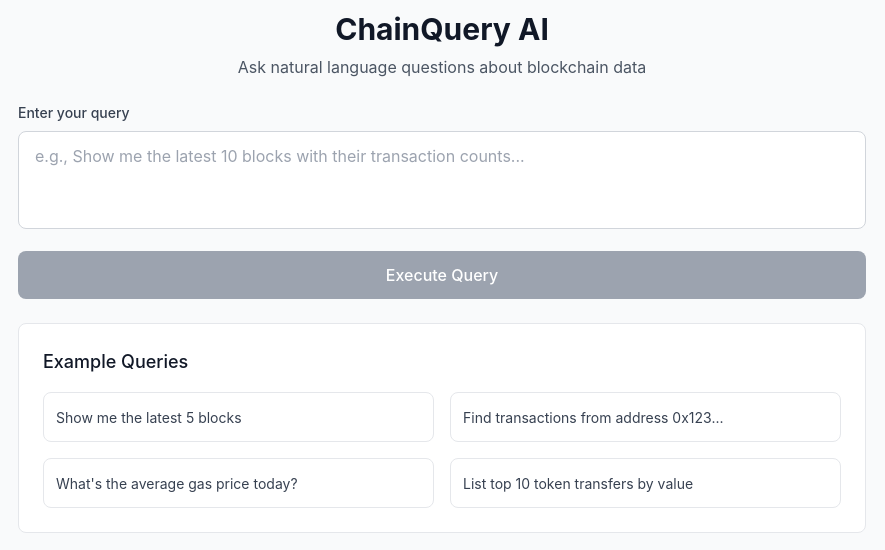
Test: QueryInterface › handles API errors gracefully
Step 1. Type "test query" into the text box labelled "Enter your query" → (442, 180), box [18,131,866,229]
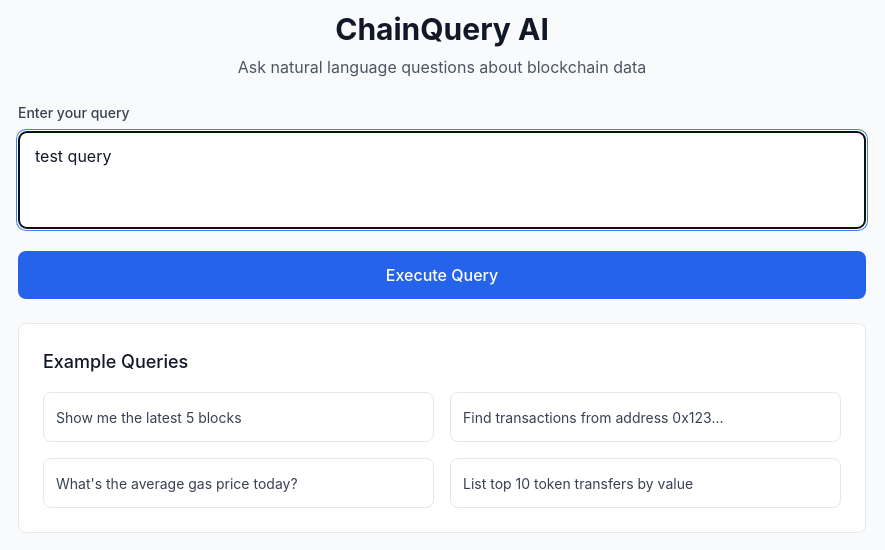
Step 2. Click the button "Execute Query" → (442, 275), box [18,251,866,299]
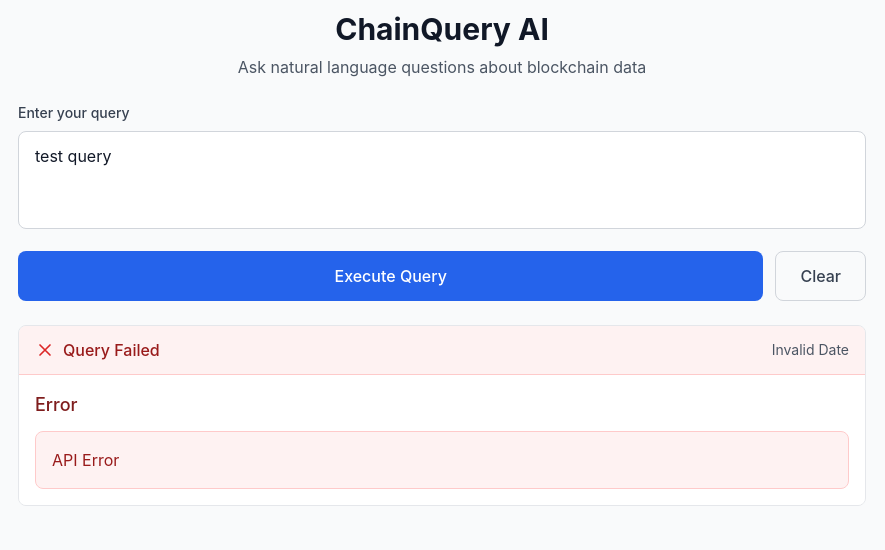
Result: the text "API Error" is shown at [52,450,119,470]
